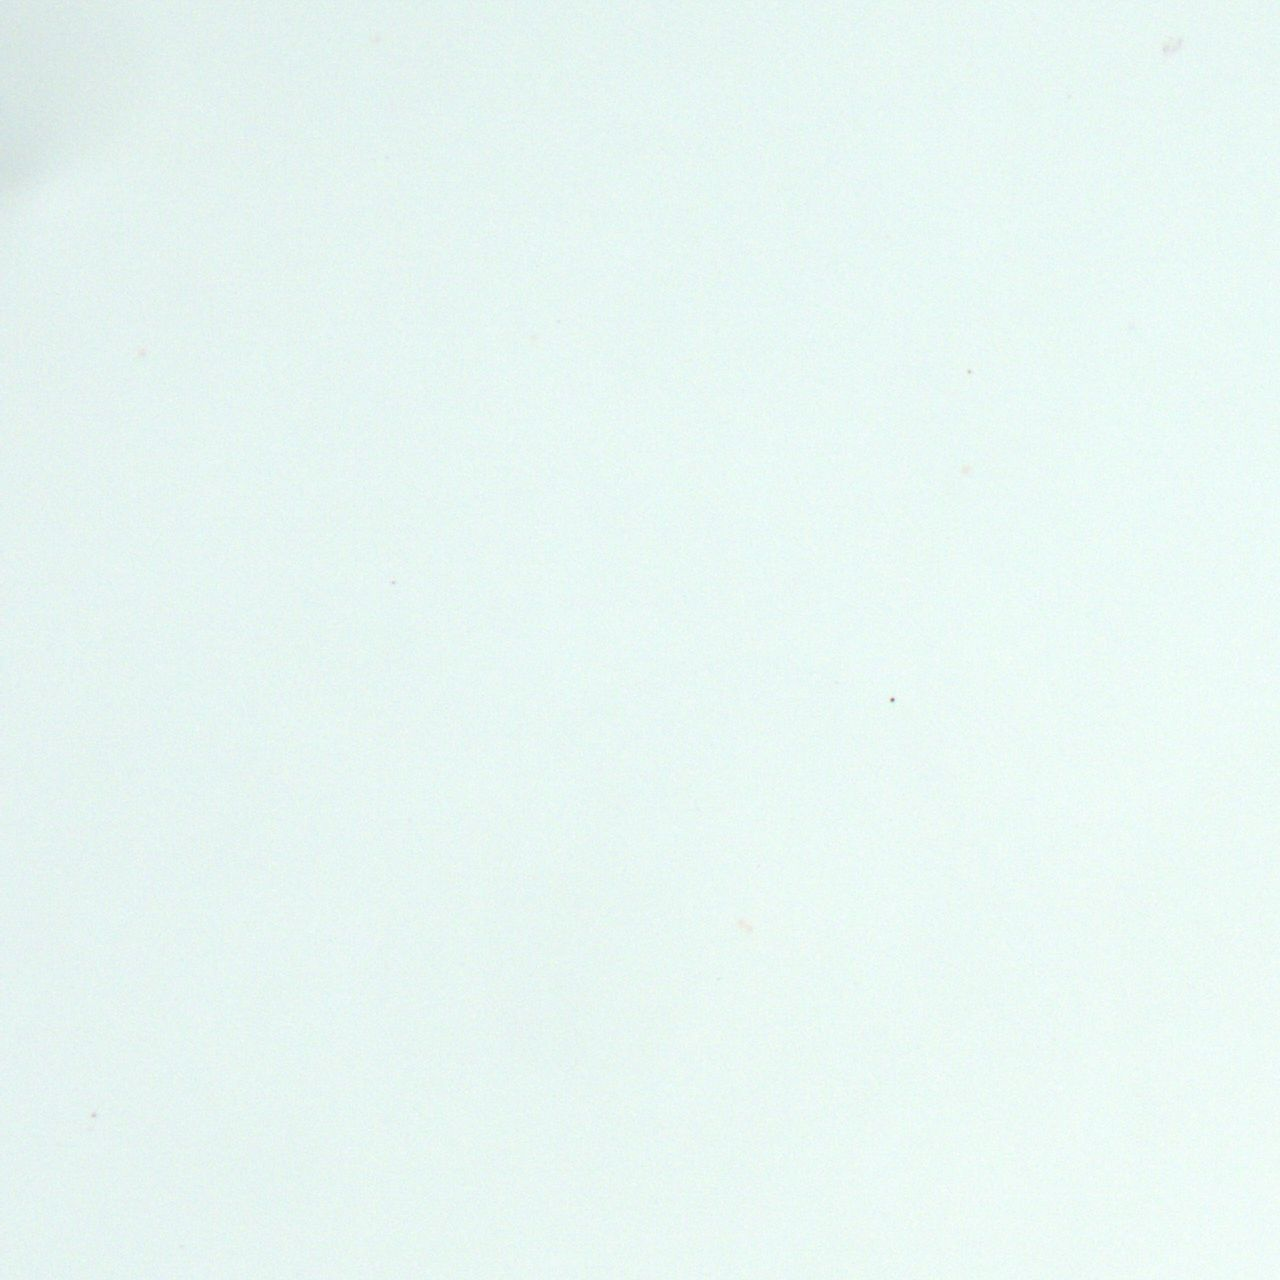dust: (890, 697, 894, 701), (967, 369, 971, 372)
